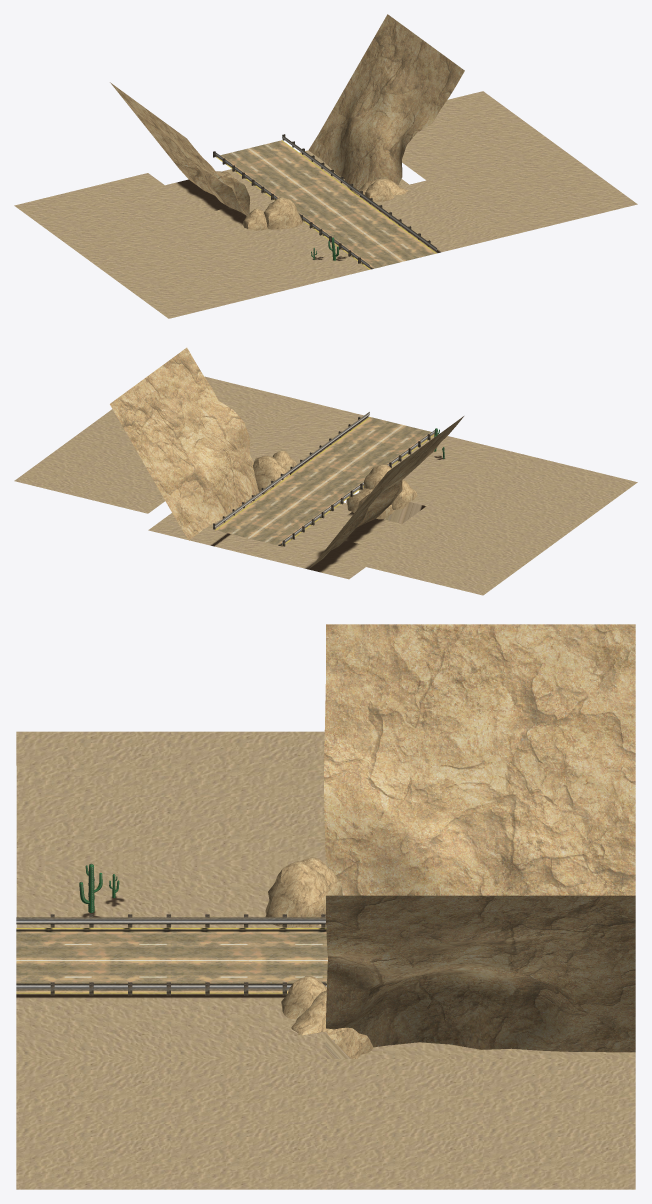
File: scene6_end.FBX
The picture shows the model from 3 angles, top to bottom: view 1: azimuth 30°, elevation 25°; view 2: azimuth 150°, elevation 25°; view 3: azimuth 270°, elevation 25°; orthographic projection. The views are drawn at different scales.
Parts seen in each view (by area): view 1: scene6_end, wall001, road012; view 2: scene6_end, wall001, road012; view 3: scene6_end, wall001, road012.
Part boxes in pixels (bbox=[...]): scene6_end: bbox=[14, 91, 637, 318]; wall001: bbox=[110, 14, 464, 230]; road012: bbox=[213, 134, 436, 269]; scene6_end: bbox=[14, 376, 637, 595]; wall001: bbox=[110, 347, 463, 568]; road012: bbox=[213, 412, 434, 546]; scene6_end: bbox=[16, 731, 635, 1189]; wall001: bbox=[265, 624, 635, 1058]; road012: bbox=[16, 914, 327, 995].
Bounding box in the file's own units: 140 × 35.68 × 80.
